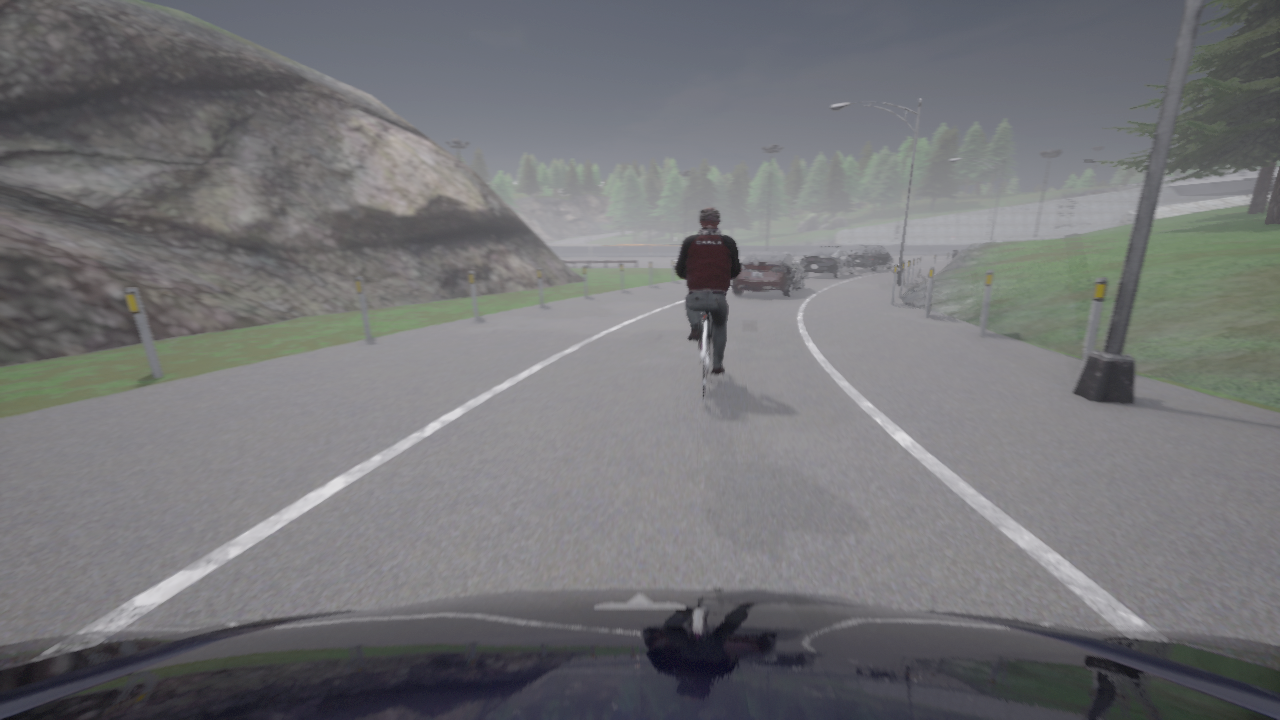cyclist: (0, 588, 1279, 719), (732, 252, 803, 297), (692, 312, 721, 402), (800, 245, 856, 278), (850, 246, 892, 271), (951, 245, 968, 259)
